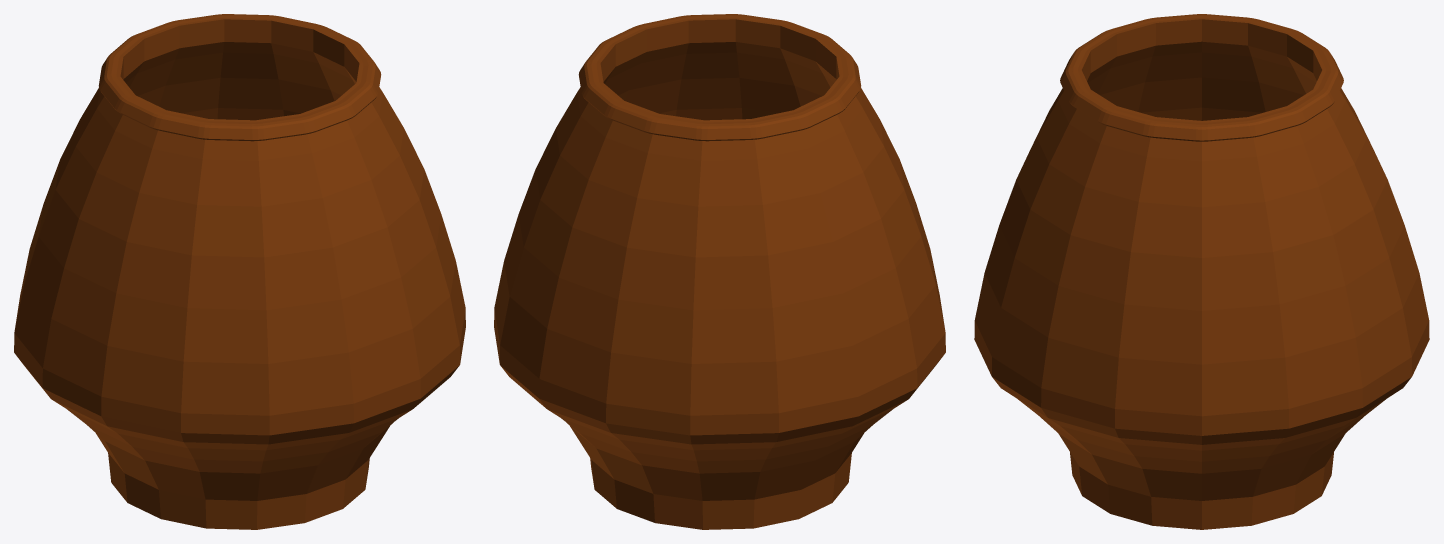
File: Big Amphora.fbx
The picture shows the model from 3 angles, left to right: view 1: azimuth 30°, elevation 25°; view 2: azimuth 150°, elevation 25°; view 3: azimuth 270°, elevation 25°; orthographic projection.
Visible parts, largest first — view 1: Big Amphora; view 2: Big Amphora; view 3: Big Amphora.
Part boxes in pixels (box(x1,y1,x2,y2)): Big Amphora: box(14, 14, 465, 529); Big Amphora: box(494, 14, 945, 529); Big Amphora: box(974, 14, 1429, 529).
Bounding box in the file's own units: 115 × 113 × 115.
